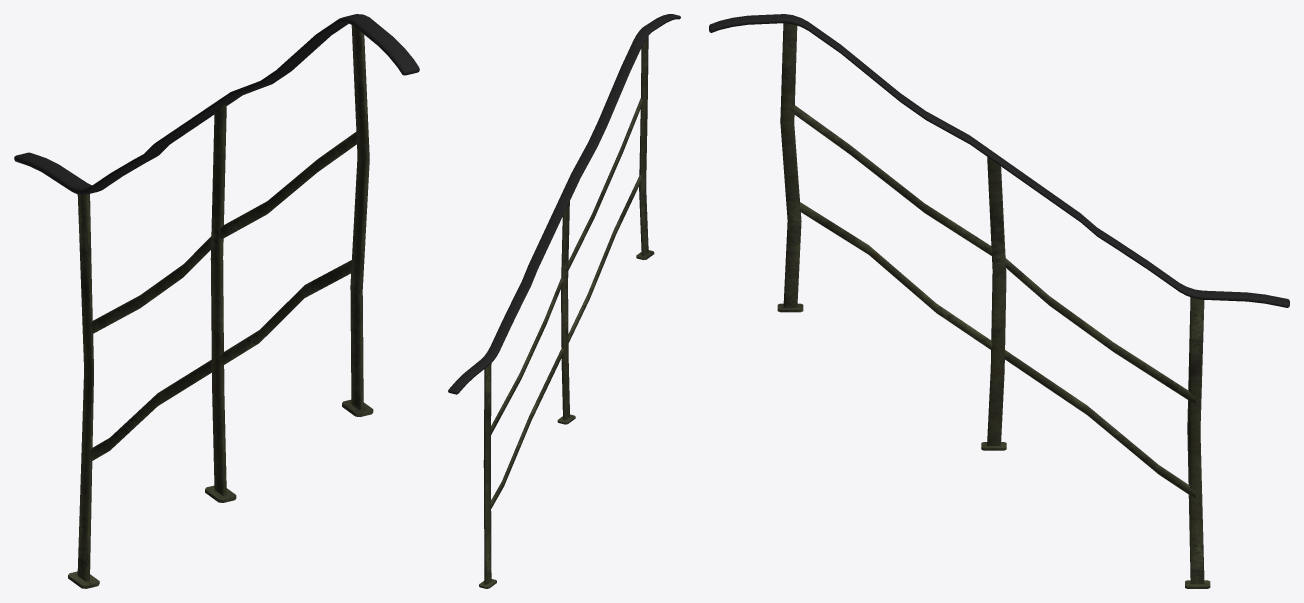
File: hand_rail_1.obj
3 renders of one model, left to right at view 1: azimuth 30°, elevation 25°; view 2: azimuth 150°, elevation 25°; view 3: azimuth 270°, elevation 25°, orthographic. The views are drawn at different scales.
Parts seen in each view (by area): view 1: hand_rail_1; view 2: hand_rail_1; view 3: hand_rail_1.
Boxes of the visible parts, bbox=[...] form: hand_rail_1: bbox=[14, 14, 419, 588]; hand_rail_1: bbox=[448, 14, 680, 588]; hand_rail_1: bbox=[709, 14, 1289, 588].
Size of the model in its own units: 0.06 by 2.47 by 2.28.
